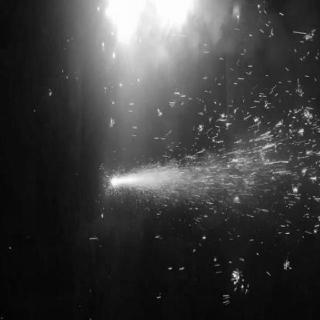Fire: (106, 168, 149, 190), (231, 262, 245, 294)
